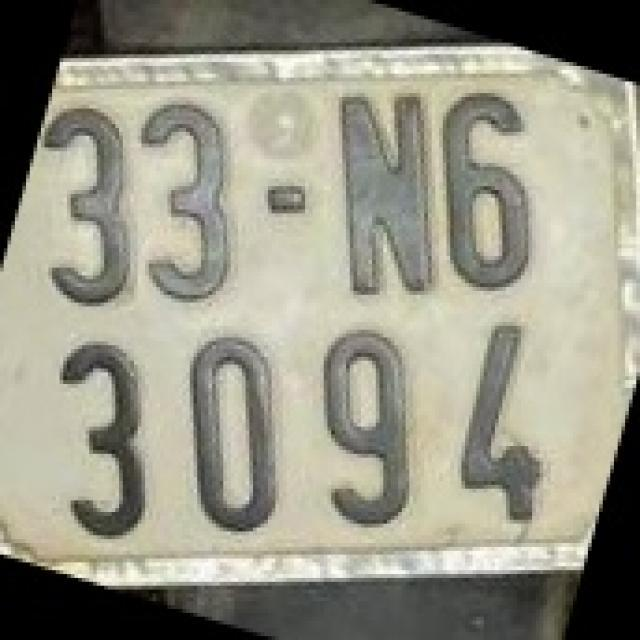0: (178, 326, 286, 540)
3: (134, 90, 238, 306), (48, 333, 156, 540), (41, 100, 134, 306)
4: (446, 314, 554, 535)
6: (436, 81, 540, 295)
9: (308, 318, 421, 532)
N: (335, 80, 439, 296)
